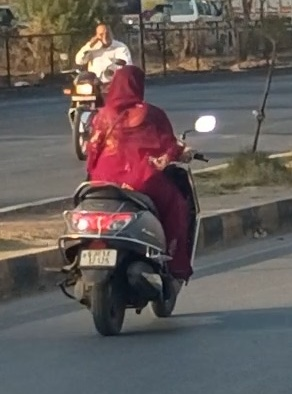BikeWithRider: (38, 61, 221, 340), (56, 18, 139, 164)
NoHelmet: (103, 62, 151, 111), (86, 20, 119, 48)
